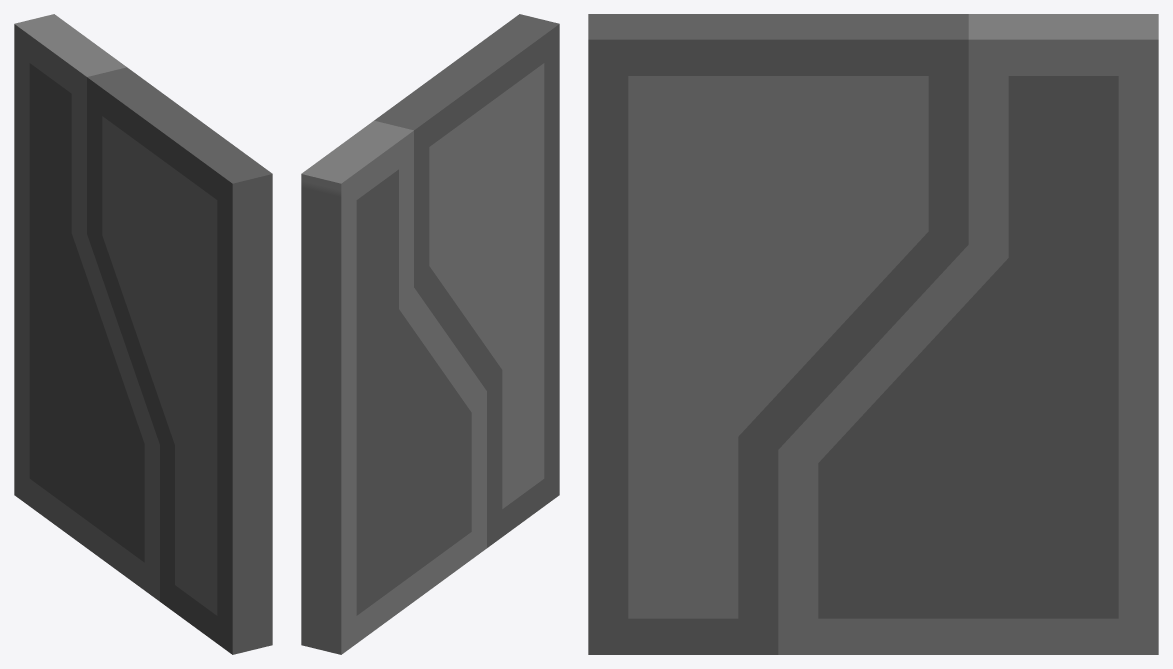
The model's file is I_Elevator_Door.fbx.
3 views of the same model, side by side, from view 1: azimuth 30°, elevation 25°; view 2: azimuth 150°, elevation 25°; view 3: azimuth 270°, elevation 25° (orthographic). The views are drawn at different scales.
Parts seen in each view (by area): view 1: ElevatorDoor_Right, ElevatorDoor_Left; view 2: ElevatorDoor_Left, ElevatorDoor_Right; view 3: ElevatorDoor_Right, ElevatorDoor_Left.
Boxes of the visible parts, x1,y1,x2,y2 form: ElevatorDoor_Right: (87,67,272,654); ElevatorDoor_Left: (14,14,159,601); ElevatorDoor_Left: (301,120,486,654); ElevatorDoor_Right: (374,14,559,547); ElevatorDoor_Right: (588,14,968,654); ElevatorDoor_Left: (778,14,1158,654).
Bounding box in the file's own units: 15.13 × 170 × 143.
